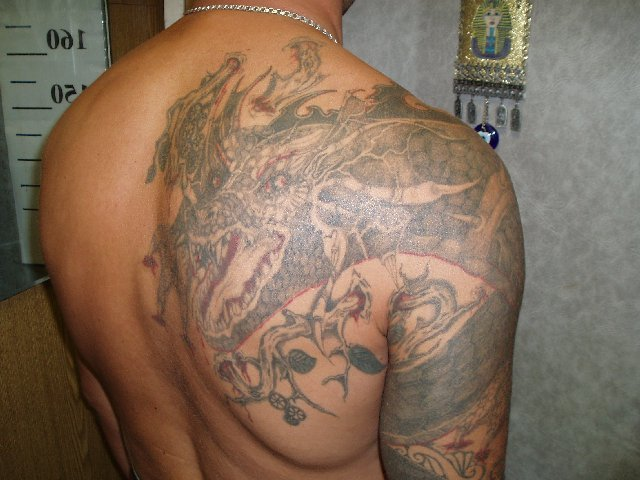tatu6_drakon: (110, 32, 569, 469)
